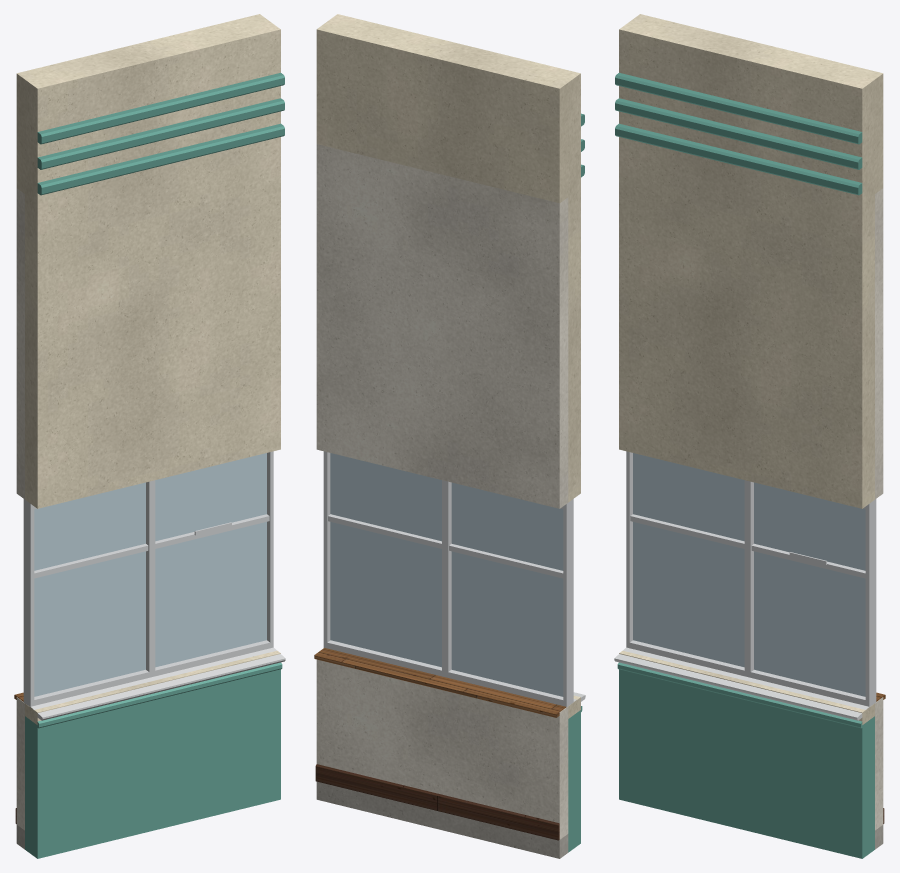
Rendered from w_rib.glb.
The picture shows the model from 3 angles, left to right: view 1: azimuth 30°, elevation 25°; view 2: azimuth 150°, elevation 25°; view 3: azimuth 330°, elevation 25°; orthographic projection.
Parts seen in each view (by area): view 1: w_rib_render, w_rib_glass, w_rib_tile_g, w_rib_trim_g, w_rib_frame, w_rib_plaster, w_rib_coping; view 2: w_rib_plaster, w_rib_glass, w_rib_render, w_rib_frame, w_rib_concrete, w_rib_dkwood, w_rib_wood, w_rib_tile_g; view 3: w_rib_render, w_rib_glass, w_rib_tile_g, w_rib_trim_g, w_rib_frame, w_rib_plaster, w_rib_coping.
Boxes of the visible parts, bbox=[...] form: w_rib_render: bbox=[16, 14, 280, 724]; w_rib_glass: bbox=[34, 453, 266, 696]; w_rib_tile_g: bbox=[25, 662, 282, 858]; w_rib_trim_g: bbox=[37, 72, 284, 195]; w_rib_frame: bbox=[23, 451, 273, 706]; w_rib_plaster: bbox=[16, 188, 24, 830]; w_rib_coping: bbox=[30, 647, 285, 720]; w_rib_plaster: bbox=[316, 144, 568, 839]; w_rib_glass: bbox=[330, 453, 563, 696]; w_rib_render: bbox=[316, 14, 580, 718]; w_rib_frame: bbox=[323, 451, 573, 707]; w_rib_concrete: bbox=[316, 781, 568, 858]; w_rib_dkwood: bbox=[315, 764, 559, 840]; w_rib_wood: bbox=[314, 648, 566, 717]; w_rib_tile_g: bbox=[568, 706, 582, 852]; w_rib_render: bbox=[619, 14, 883, 724]; w_rib_glass: bbox=[633, 453, 865, 696]; w_rib_tile_g: bbox=[617, 662, 874, 858]; w_rib_trim_g: bbox=[615, 72, 862, 195]; w_rib_frame: bbox=[626, 451, 876, 706]; w_rib_plaster: bbox=[875, 188, 883, 830]; w_rib_coping: bbox=[614, 647, 869, 720].
Size of the model in its own units: 2 by 6.05 by 0.41.
10 materials, 5 textured.
